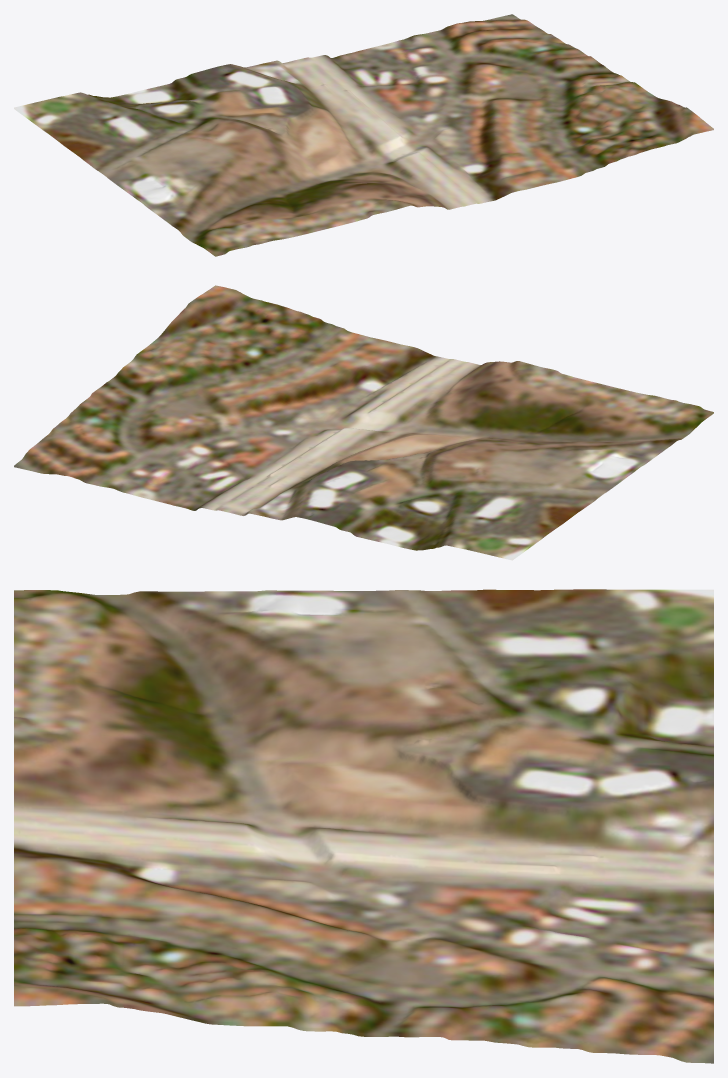
File: terrain_r4_c7.glb
The picture shows the model from 3 angles, top to bottom: view 1: azimuth 30°, elevation 25°; view 2: azimuth 150°, elevation 25°; view 3: azimuth 270°, elevation 25°; orthographic projection. The views are drawn at different scales.
Parts seen in each view (by area): view 1: terrain_r4_c7_lod0; view 2: terrain_r4_c7_lod0; view 3: terrain_r4_c7_lod0.
Boxes of the visible parts, <box> form: terrain_r4_c7_lod0: <box>14,14,713,256</box>; terrain_r4_c7_lod0: <box>14,285,713,560</box>; terrain_r4_c7_lod0: <box>14,589,713,1063</box>.
Size of the model in its own units: 1125 by 77.32 by 787.
Materials: 1 (1 with a texture image).
